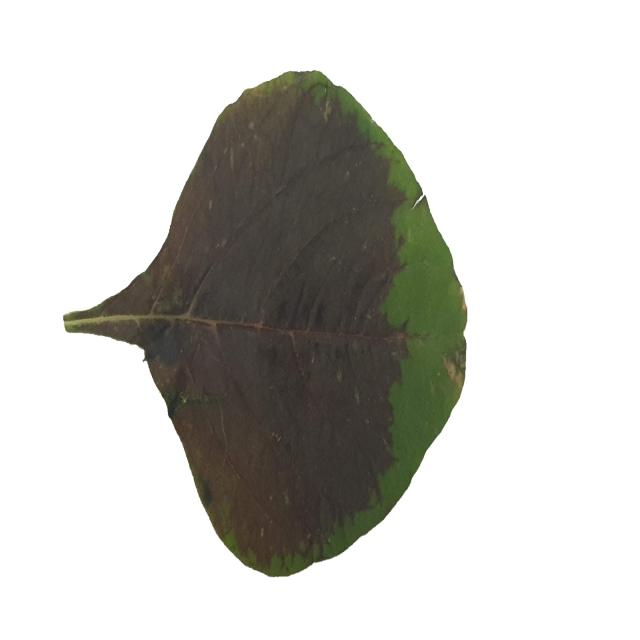Medicinal-Arive Dantu: (61, 64, 468, 575)
